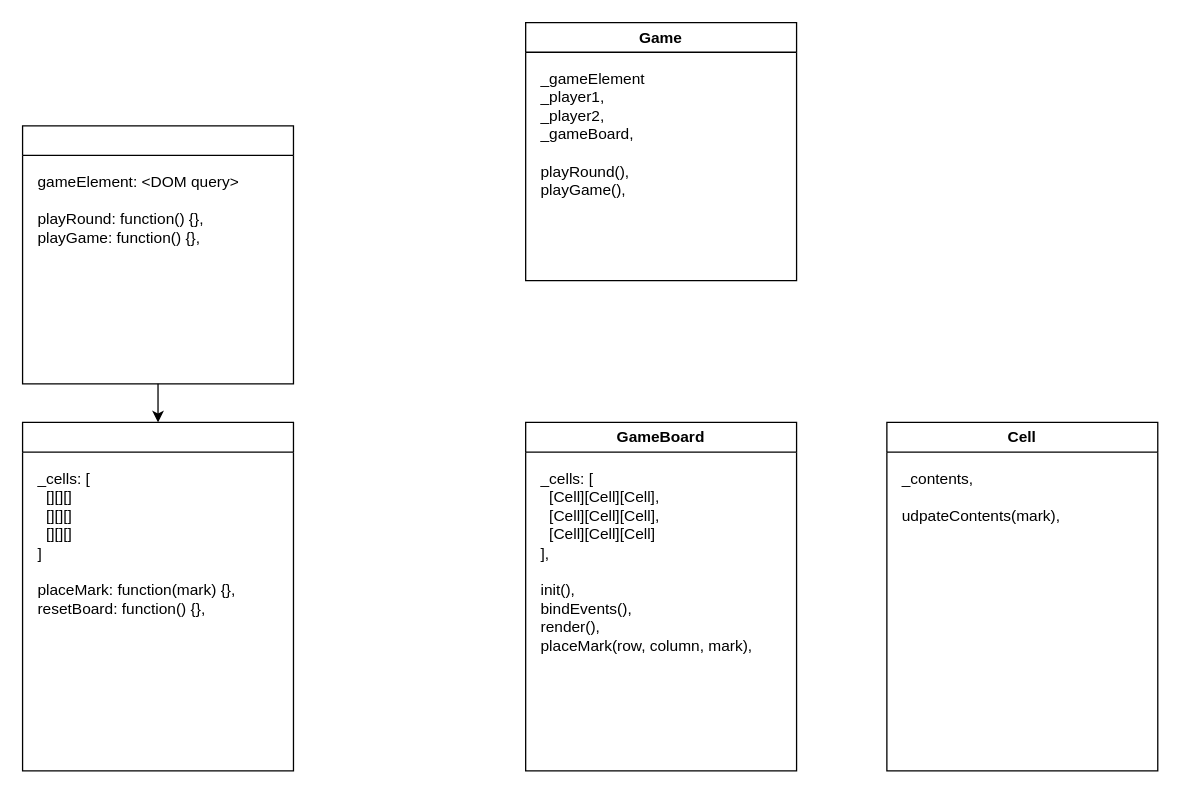
This 1180x793 diagram has some shape labels left out. Here are the shapes that lost their labels. From the top down, the box of each, then its label:
(21, 124, 293, 384): Player
(21, 421, 293, 771): ComputerPlayer
